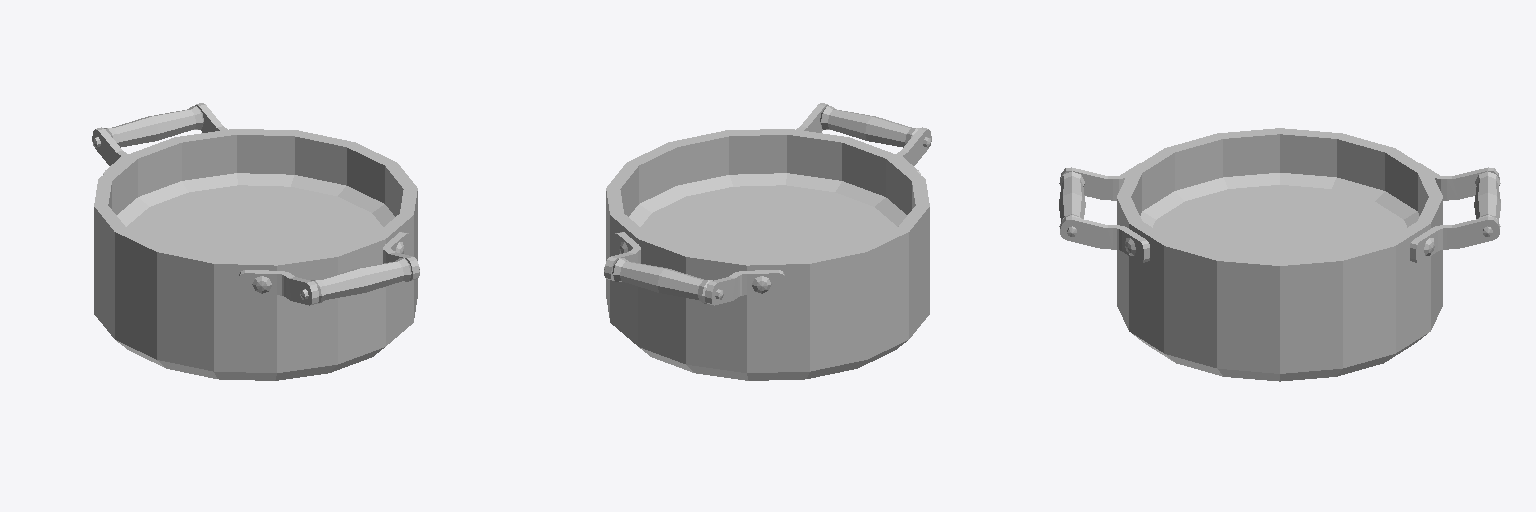
Rendered from Pot_With_Soup.obj.
The picture shows the model from 3 angles: view 1: azimuth 30°, elevation 25°; view 2: azimuth 150°, elevation 25°; view 3: azimuth 270°, elevation 25°; orthographic projection.
Visible parts, largest first — view 1: Pot_With_Soup; view 2: Pot_With_Soup; view 3: Pot_With_Soup.
Boxes of the visible parts, box(x1,y1,x2,y2) form: Pot_With_Soup: box(92, 103, 419, 380); Pot_With_Soup: box(604, 103, 931, 380); Pot_With_Soup: box(1059, 128, 1500, 381).
Size of the model in its own units: 2 by 0.857 by 2.71.